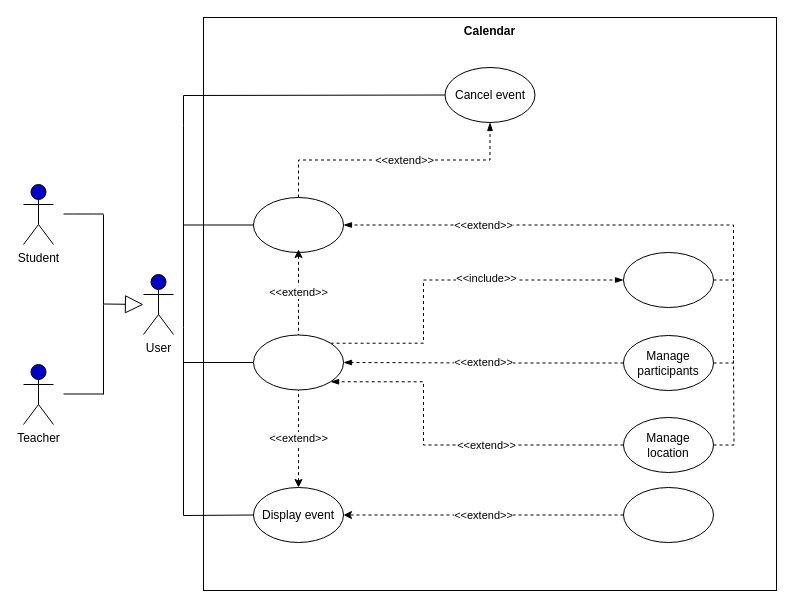
The diagram is 802 pixels wide and 608 high, and some of its shapes have lost their labels. Each missing label, with the centre of its shape:
Add event: the point at 298,362
Edit event: the point at 298,224
Select date/time: the point at 668,280
Show details: the point at 668,514
